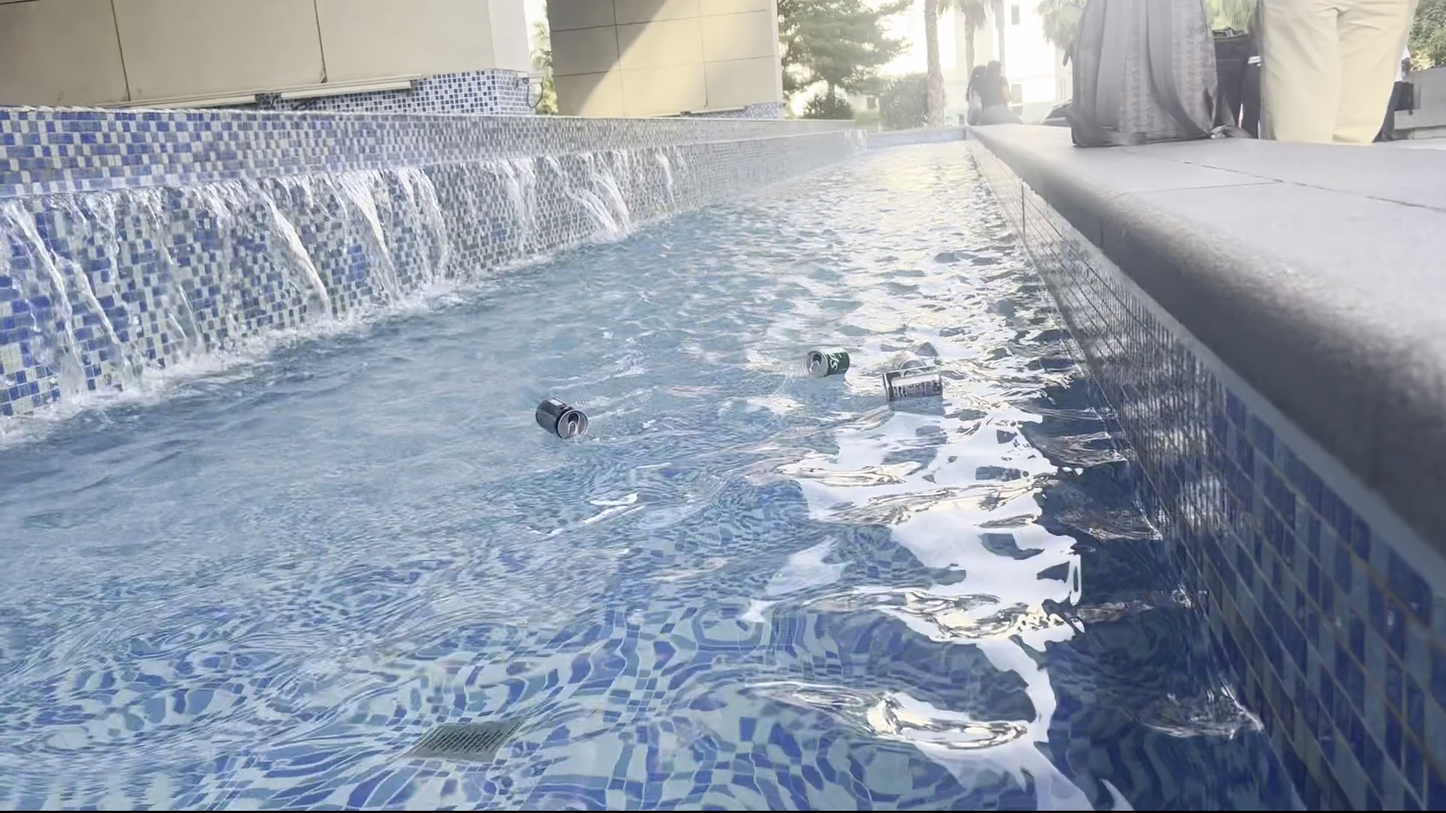debris: (532, 391, 593, 446), (881, 361, 943, 403), (801, 340, 854, 381), (886, 347, 926, 376)
